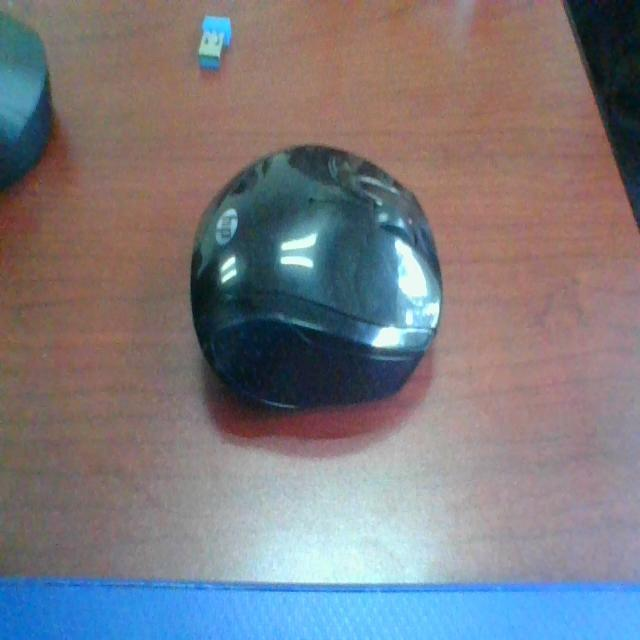mouse: (180, 132, 512, 467)
